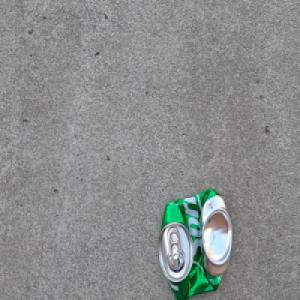SodaCan: (157, 187, 233, 300)
